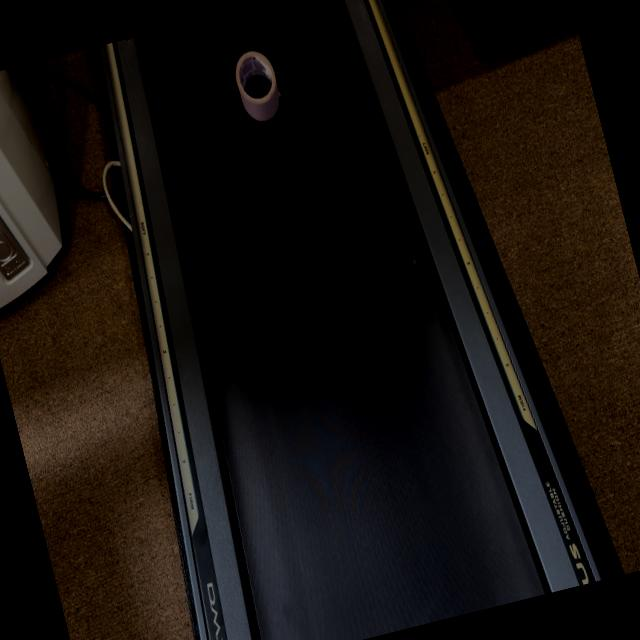Trash: (231, 45, 286, 127)
